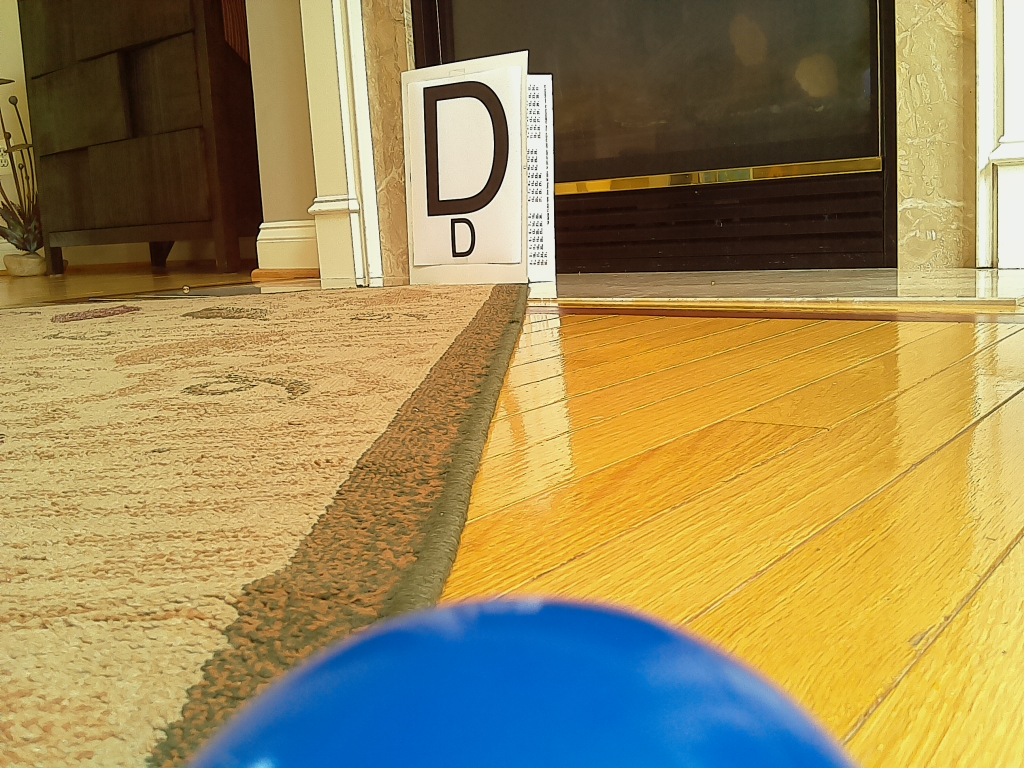letter: (427, 87, 508, 216)
